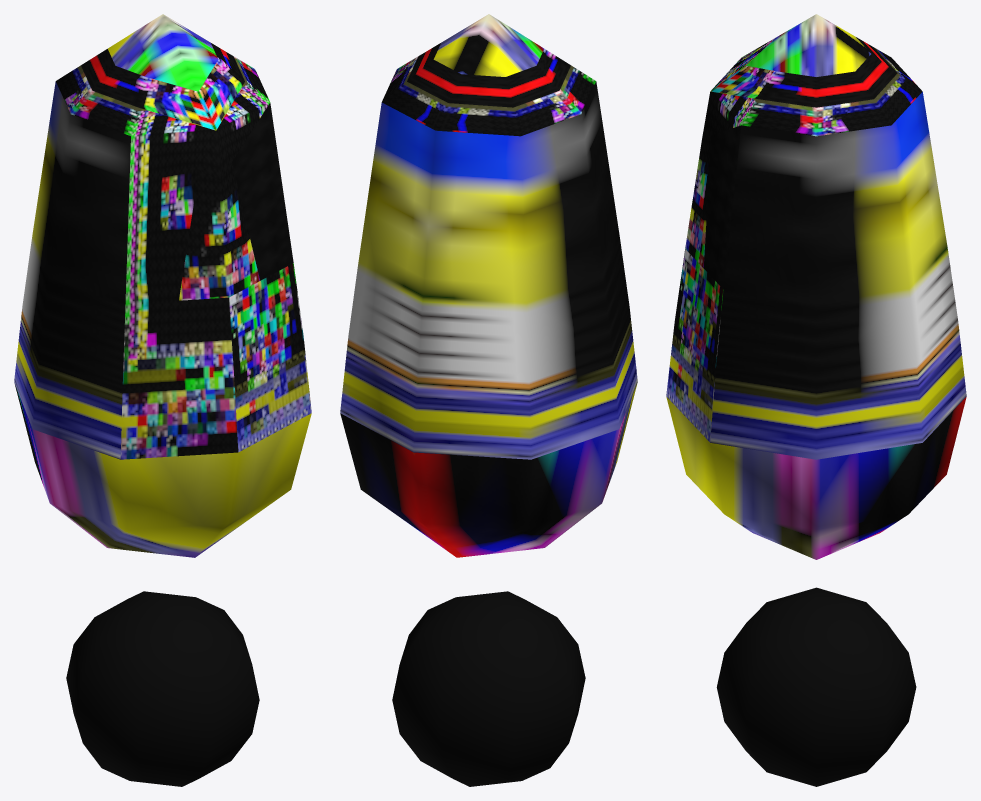
File: cloth_chief_model.glb
The picture shows the model from 3 angles, left to right: view 1: azimuth 30°, elevation 25°; view 2: azimuth 150°, elevation 25°; view 3: azimuth 270°, elevation 25°; orthographic projection.
Visible parts, largest first — view 1: cloth_chief_model; view 2: cloth_chief_model; view 3: cloth_chief_model.
Boxes of the visible parts, x1,y1,x2,y2 form: cloth_chief_model: [14, 14, 311, 786]; cloth_chief_model: [340, 14, 637, 786]; cloth_chief_model: [666, 14, 966, 786].
Size of the model in its own units: 30.77 by 86.34 by 30.79.
Materials: 1 (1 with a texture image).
